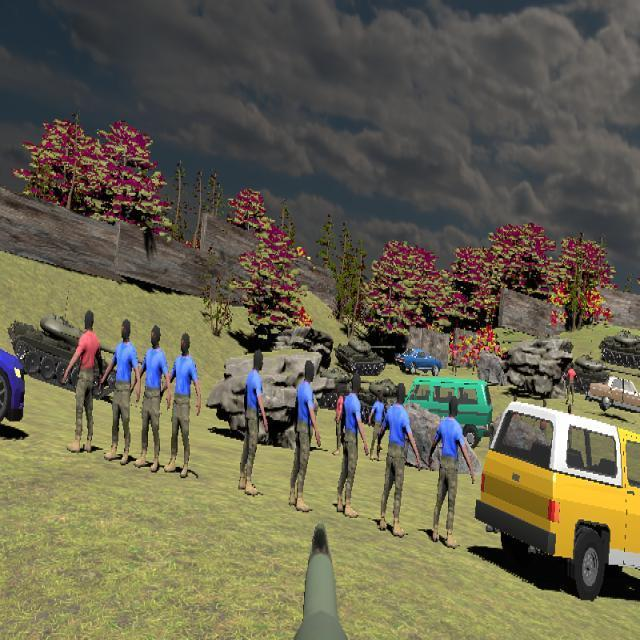Human: (429, 391, 475, 548), (376, 380, 420, 538), (99, 319, 140, 465), (63, 307, 104, 452), (133, 324, 173, 470), (162, 332, 201, 477), (289, 358, 320, 513), (337, 372, 368, 518), (238, 357, 270, 496), (243, 349, 269, 467), (242, 350, 263, 492), (244, 350, 269, 468), (369, 388, 389, 463), (563, 361, 579, 406)
Tank: (8, 312, 111, 390), (334, 336, 396, 376), (598, 330, 640, 368)
car: (477, 401, 640, 601), (401, 377, 493, 448), (0, 310, 26, 436), (586, 375, 640, 415), (396, 348, 442, 376)
